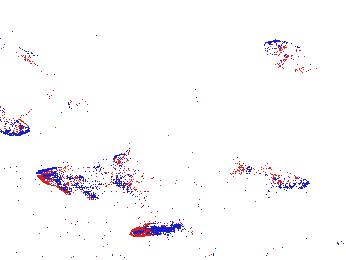X-ray fish: (260, 38, 319, 82), (107, 147, 144, 182)
red belly glassfish: (65, 94, 96, 118)
redtail glassfish: (37, 164, 135, 203), (235, 158, 311, 194), (1, 32, 39, 68)
